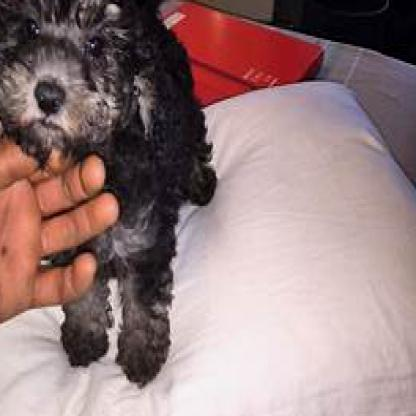dog: (1, 0, 218, 387)
